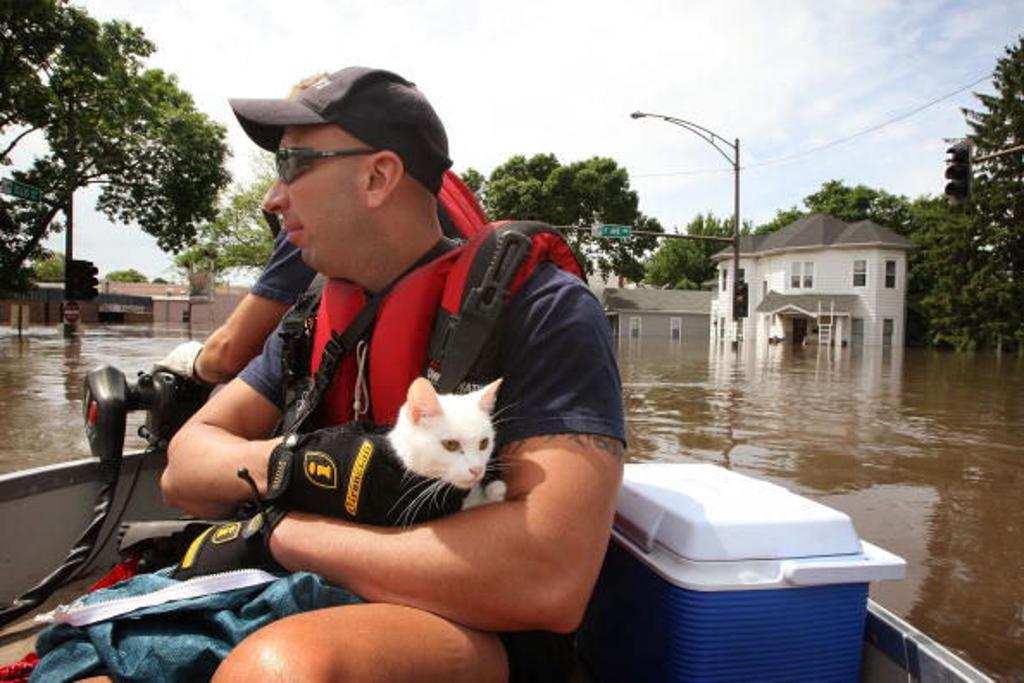face: (265, 115, 369, 267)
